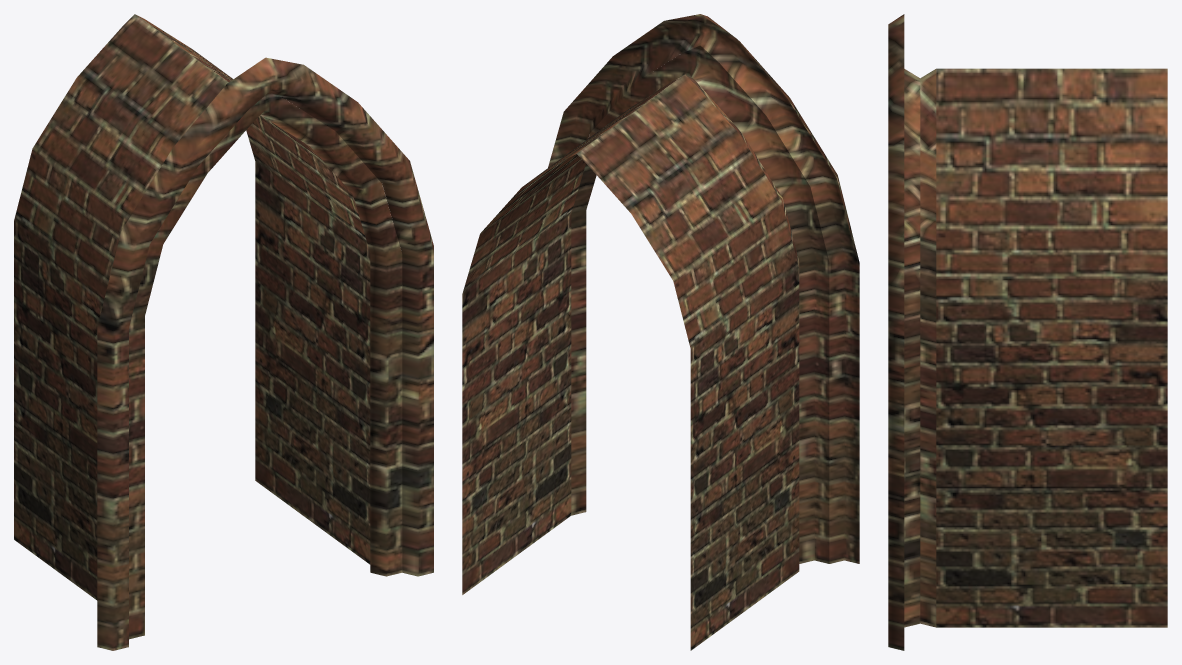
Rendered from chapel_door1_front.obj.
3 views of the same model, side by side, from view 1: azimuth 30°, elevation 25°; view 2: azimuth 150°, elevation 25°; view 3: azimuth 270°, elevation 25° (orthographic). The views are drawn at different scales.
Parts seen in each view (by area): view 1: Cone001; view 2: Cone001; view 3: Cone001.
Part boxes in pixels (x1,y1,x2,y2): Cone001: [14, 14, 433, 650]; Cone001: [462, 14, 859, 650]; Cone001: [888, 14, 1167, 650].
Size of the model in its own units: 1357 by 2112 by 969.
Materials: 1 (1 with a texture image).
